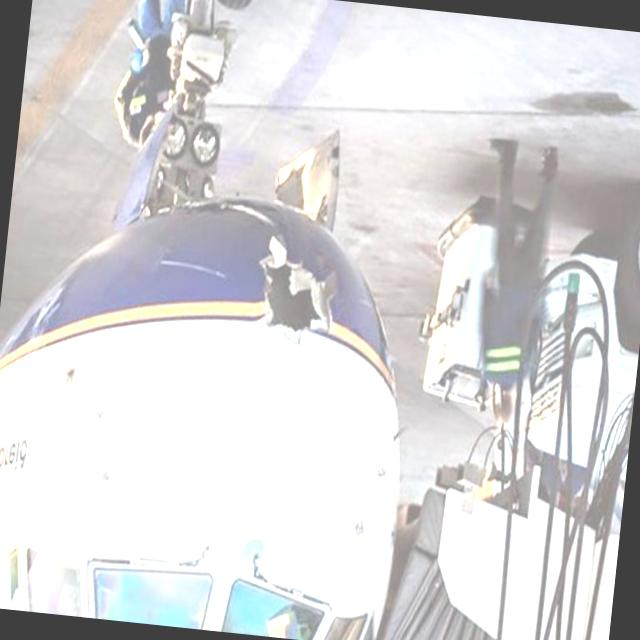crack: (248, 251, 338, 348)
